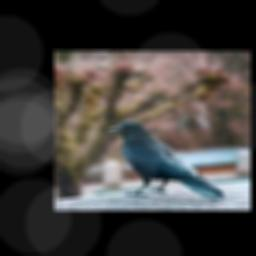Crow: (107, 121, 228, 200)
